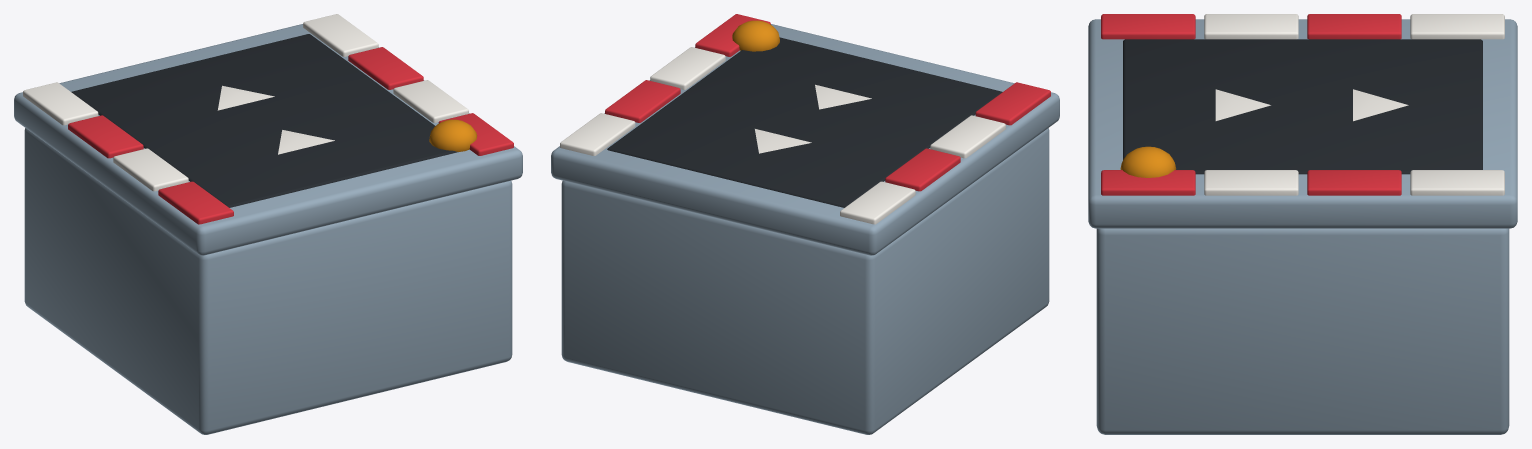
File: wall_order.gltf
3 renders of one model, left to right at view 1: azimuth 30°, elevation 25°; view 2: azimuth 150°, elevation 25°; view 3: azimuth 270°, elevation 25°, orthographic. The views are drawn at different scales.
Parts seen in each view (by area): view 1: DeliveryBaseBody; view 2: DeliveryBaseBody; view 3: DeliveryBaseBody.
Boxes of the visible parts, x1,y1,x2,y2 form: DeliveryBaseBody: [14, 14, 522, 434]; DeliveryBaseBody: [551, 14, 1059, 434]; DeliveryBaseBody: [1088, 14, 1517, 434].
Bounding box in the file's own units: 1 × 0.6837 × 1.
